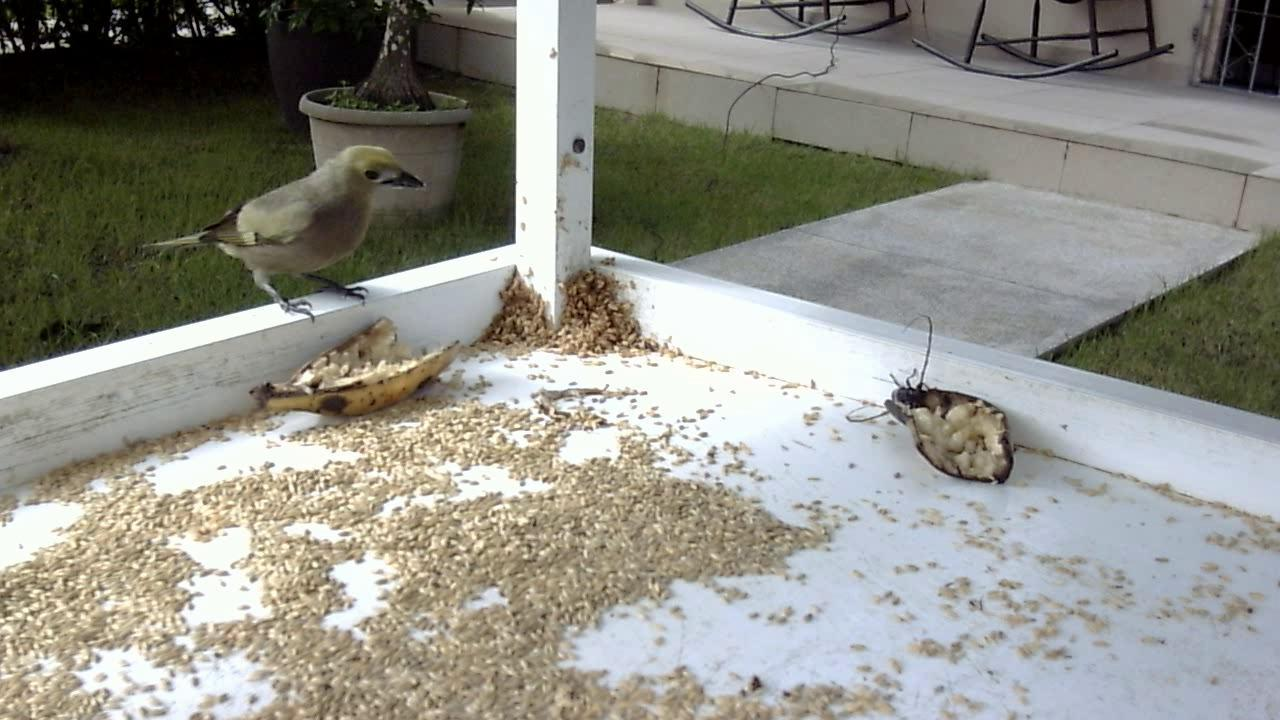sanhaco_do_coqueiro: (141, 140, 430, 329)
